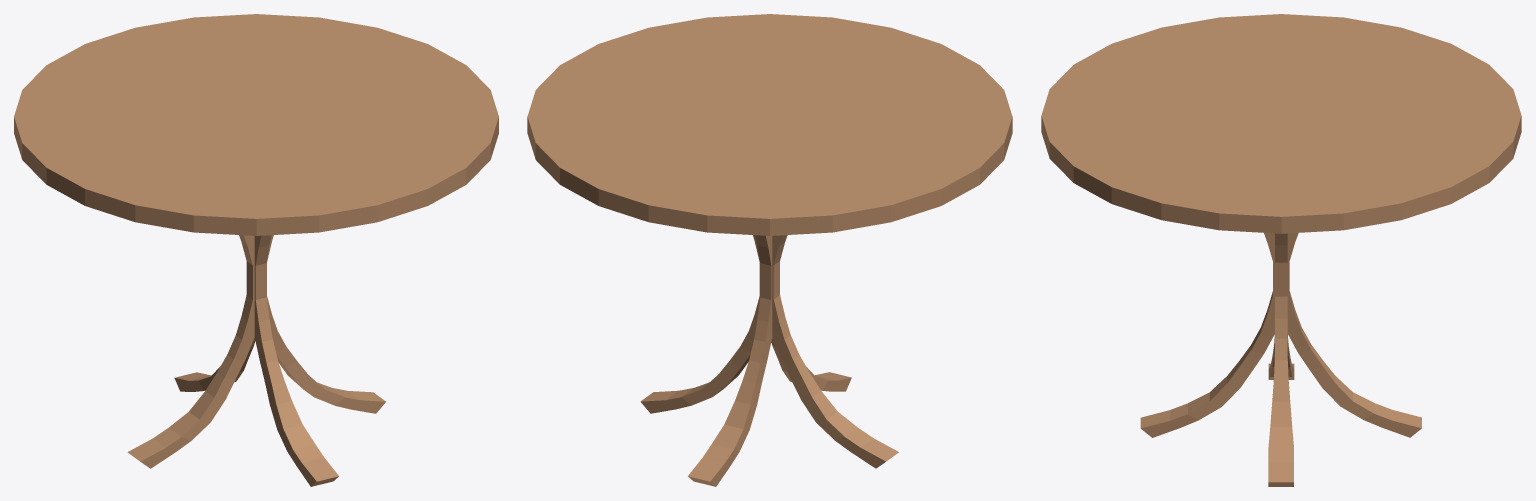
The model's file is nicetable.fbx.
3 renders of one model, left to right at view 1: azimuth 30°, elevation 25°; view 2: azimuth 150°, elevation 25°; view 3: azimuth 270°, elevation 25°, orthographic.
Visible parts, largest first — view 1: nicetable; view 2: nicetable; view 3: nicetable.
Boxes of the visible parts, x1,y1,x2,y2 form: nicetable: [14, 14, 498, 486]; nicetable: [527, 14, 1012, 486]; nicetable: [1041, 14, 1521, 486].
Bounding box in the file's own units: 1.23 × 1.23 × 0.8952.
1 material, 1 textured.
